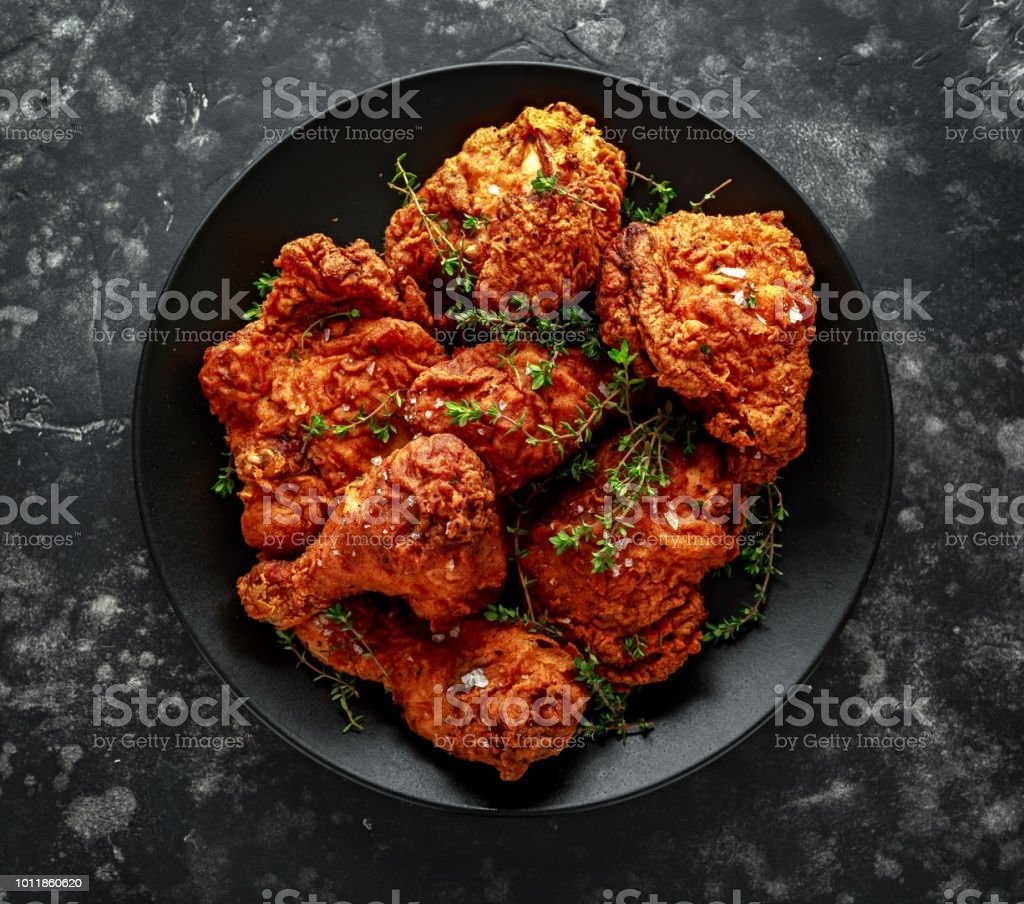ayam_goreng: (276, 590, 608, 790), (612, 199, 835, 478), (199, 442, 508, 643)
